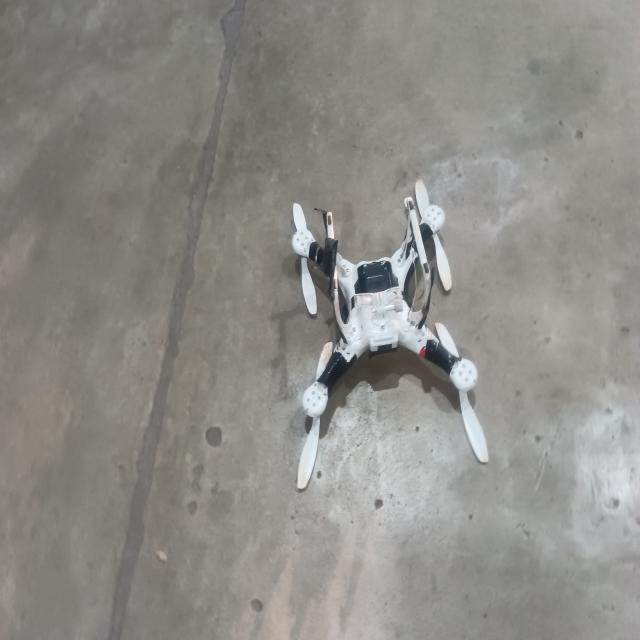drone: (264, 177, 510, 502)
